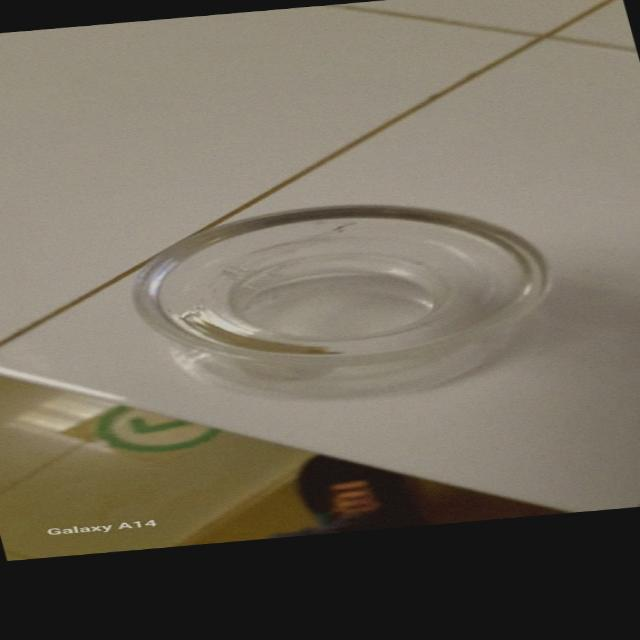Filtration Flask: (117, 171, 630, 395)
